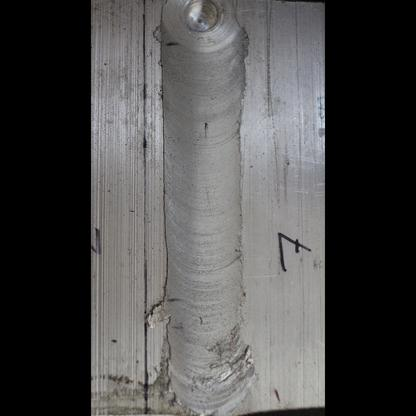crack: (221, 246, 245, 268)
flash: (143, 295, 169, 333)
galling: (162, 328, 255, 413)
keyhole: (155, 1, 251, 56)
